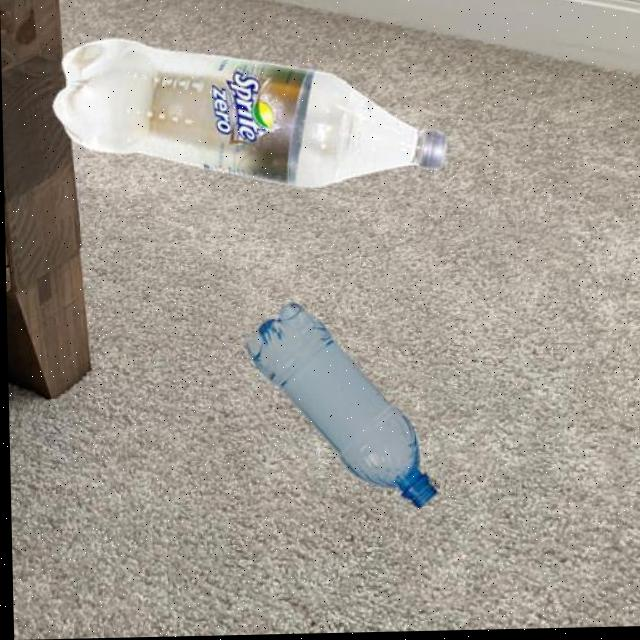bottle: (49, 30, 447, 196), (240, 299, 437, 513)
